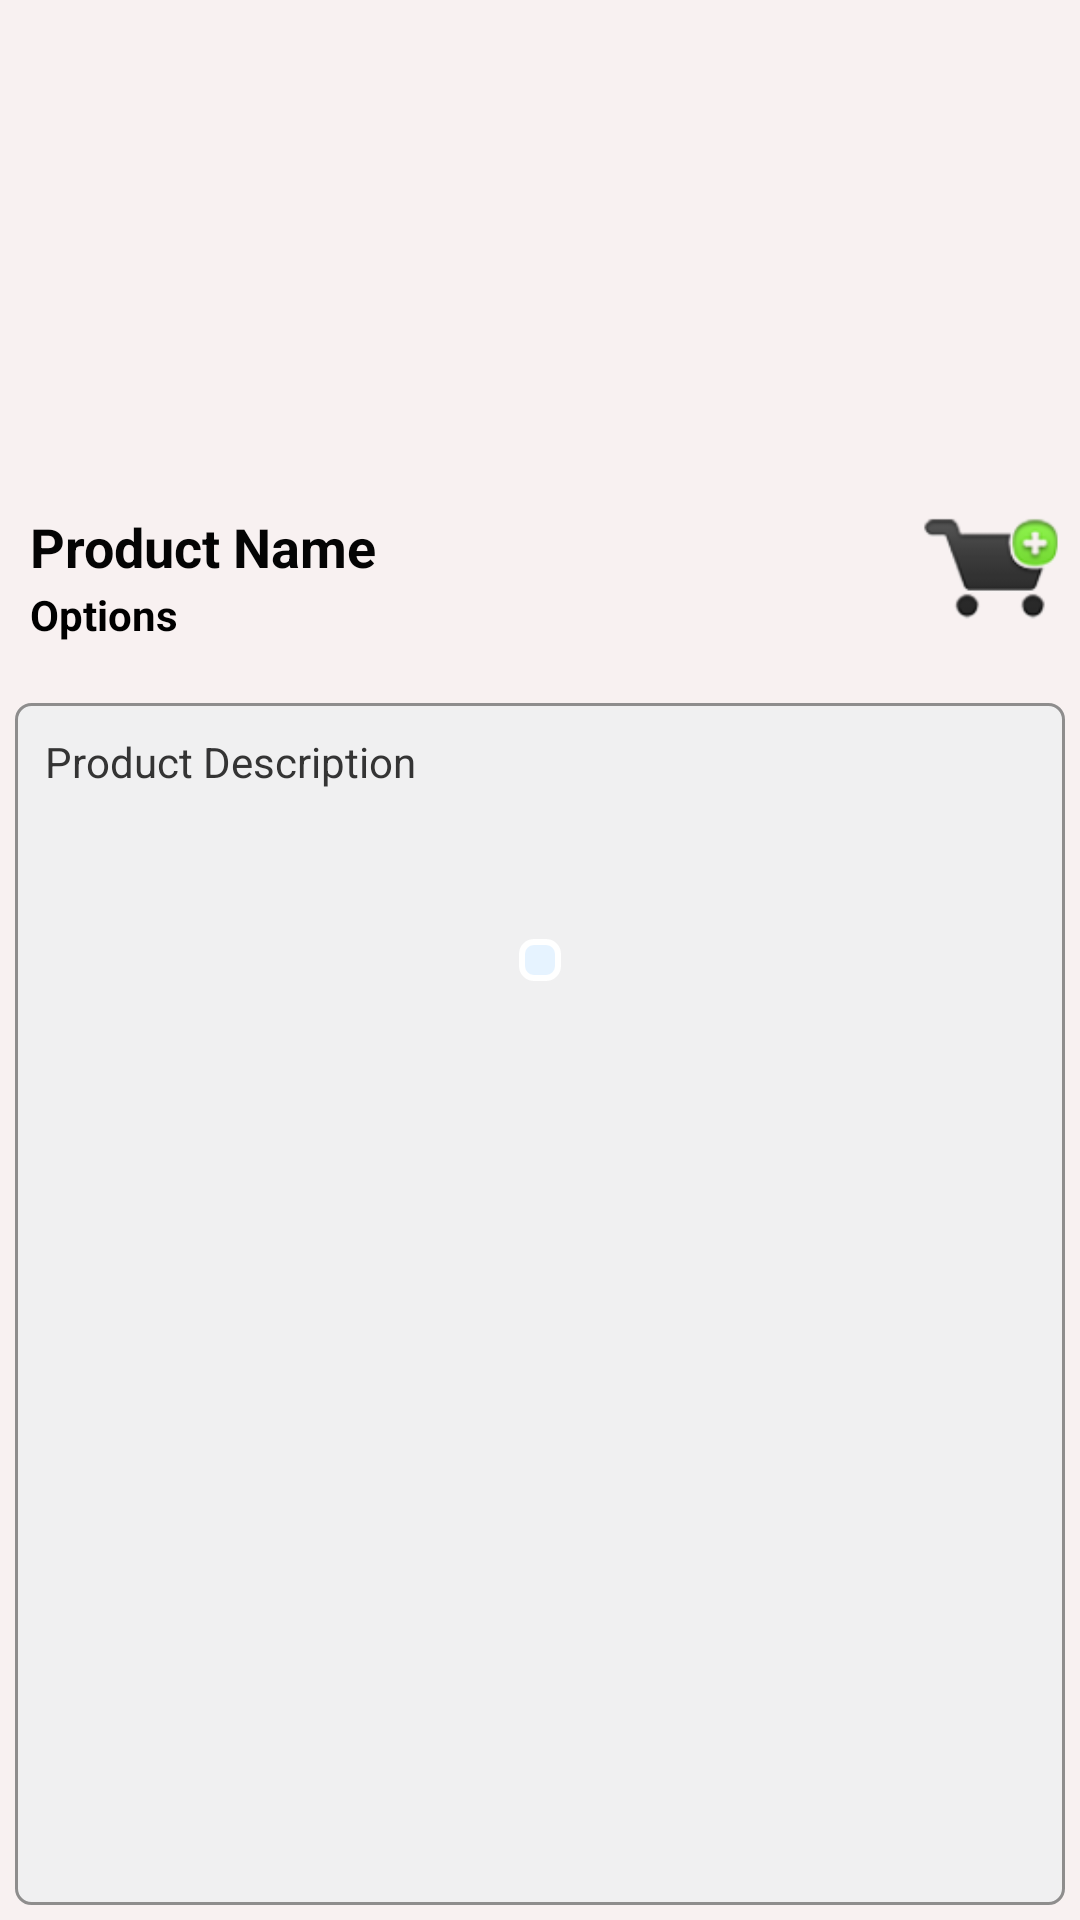

Named icons in this screenshot (1080 × 1920) and their bounding boxes, (x1, y1, x2, y2):
add to cart: (924, 519, 1058, 618)
